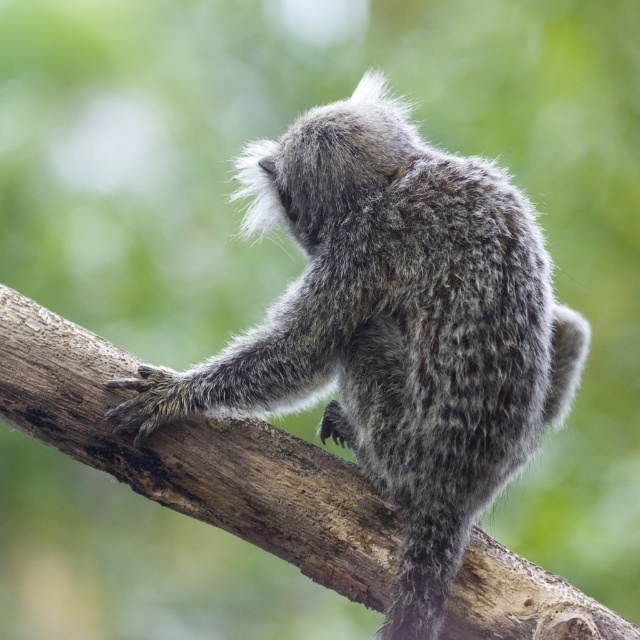Monkey: (102, 65, 590, 640)
